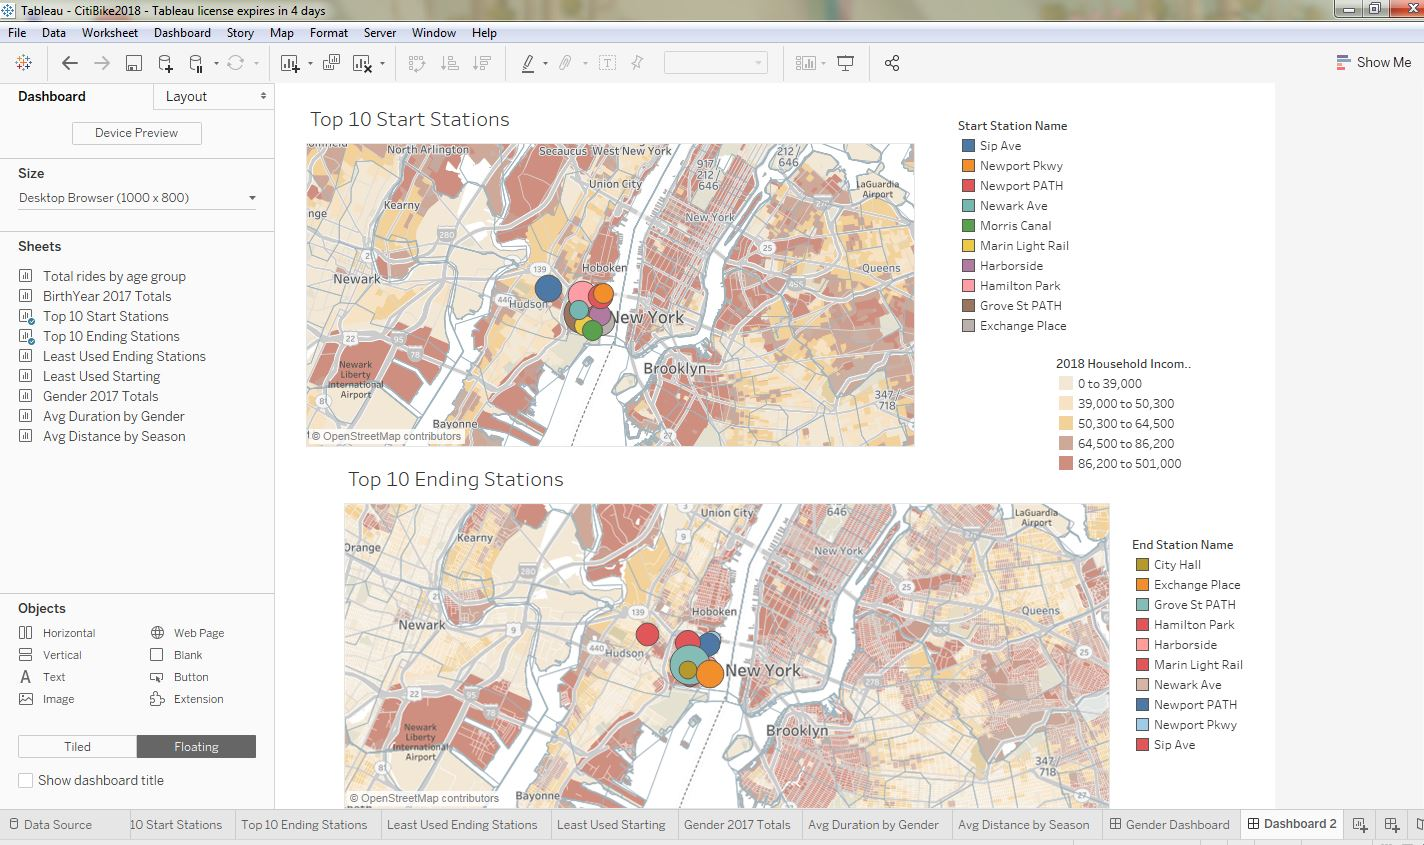

Layout of this report page (visuals, bound fields, positions):
{"tool":"tableau","page":{"name":"Top Start & End","canvas":[1000,800],"ordinal":2},"visuals":[{"type":"worksheet","title":"Top 10 Start Stations","mark":"Automatic","rows":["start station latitude"],"cols":["start station longitude"],"box":[31,17,609,347]},{"type":"legend","title":"Top 10 Start Stations","param":"[federated.0e7hpmo1rsmxcw1aq7kue1a3j1ir].[none:start station name:nk]","box":[683,34,140,218]},{"type":"legend","title":"Top 10 Start Stations","box":[781,272,140,118]},{"type":"worksheet","title":"Top 10 Ending Stations","mark":"Automatic","rows":["end station latitude"],"cols":["end station longitude"],"box":[69,377,766,349]},{"type":"legend","title":"Top 10 Ending Stations","param":"[federated.0e7hpmo1rsmxcw1aq7kue1a3j1ir].[none:end station name:nk]","box":[857,453,140,218]}]}

Visuals, with their boxes on the page's 1000x800 design canvas (x1, y1, x2, y2). These are canvas units, not pixel positions in the 1424x845 screenshot, which may show the page scaled, cropped or inside an application window:
"Top 10 Start Stations" worksheet: 31/17/640/364
"Top 10 Start Stations" legend: 683/34/823/252
"Top 10 Start Stations" legend: 781/272/921/390
"Top 10 Ending Stations" worksheet: 69/377/835/726
"Top 10 Ending Stations" legend: 857/453/997/671
